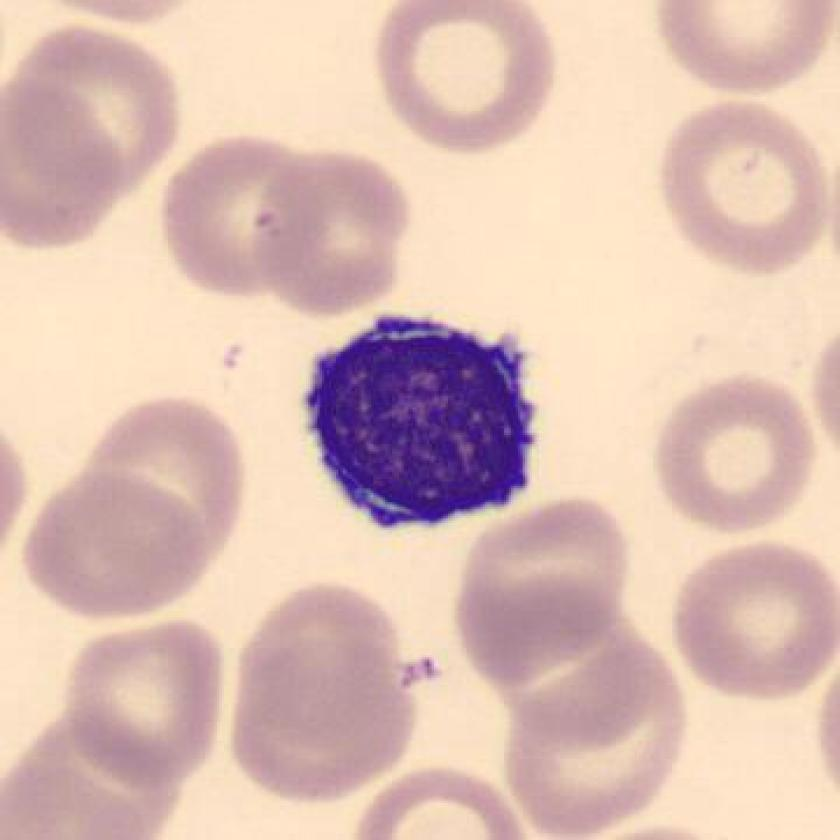lymphocyte: (288, 295, 556, 549)
